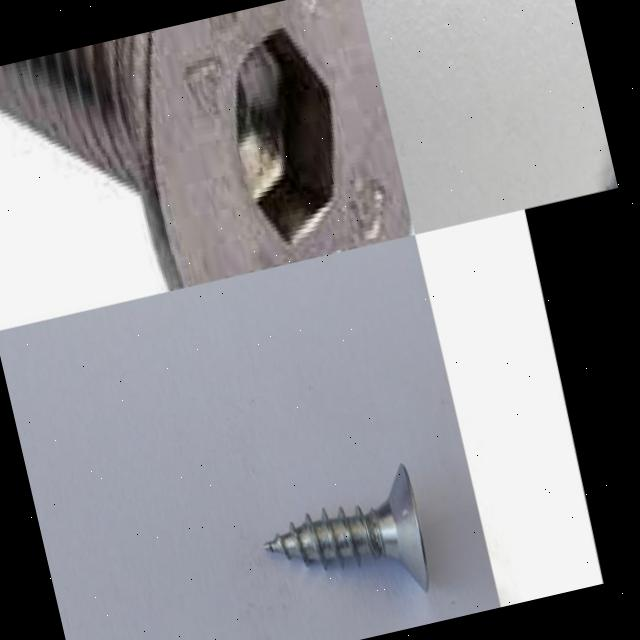Screw: (0, 0, 411, 291), (263, 462, 429, 589)
